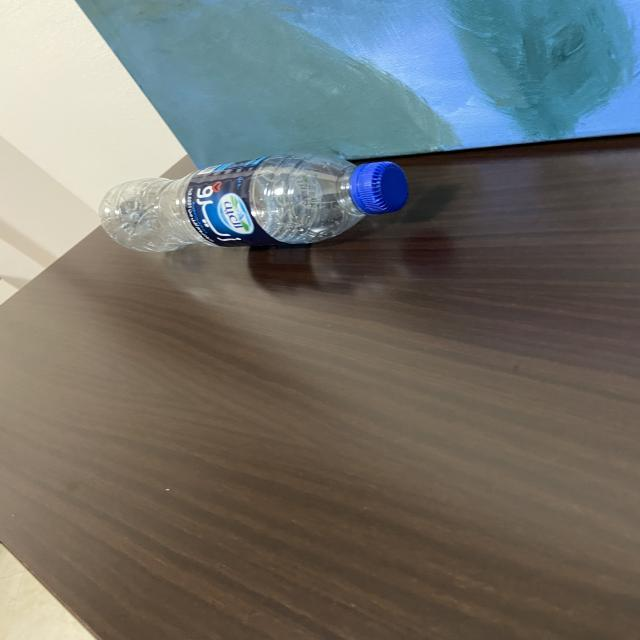chai: (100, 154, 409, 252)
